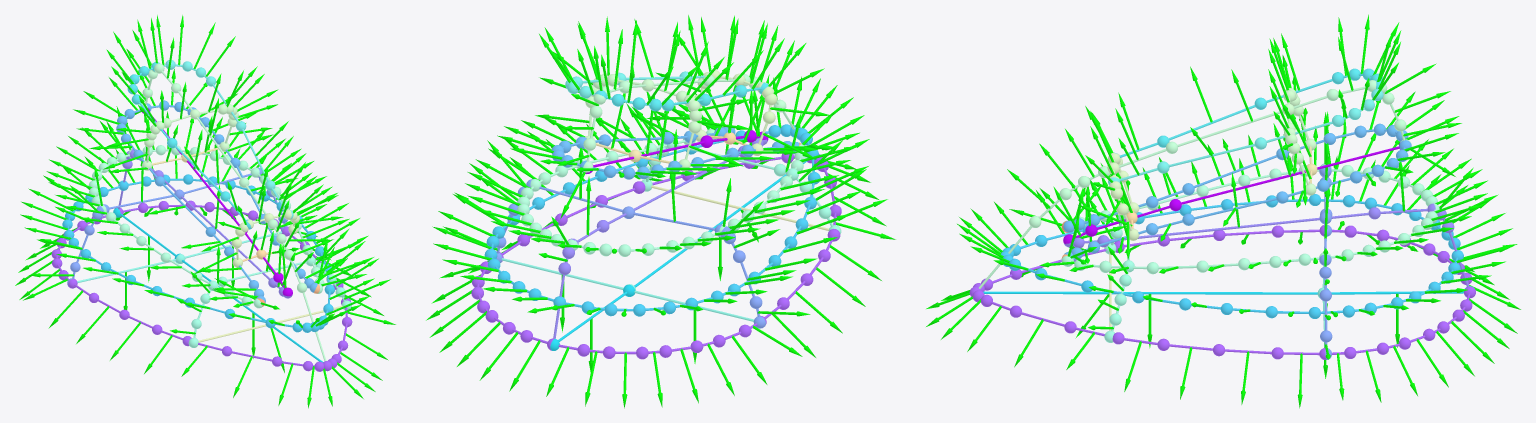
File: t2f_iron.gltf
3 renders of one model, left to right at view 1: azimuth 30°, elevation 25°; view 2: azimuth 150°, elevation 25°; view 3: azimuth 270°, elevation 25°, orthographic. The views are drawn at different scales.
Size of the model in its own units: 0.6616 by 0.5649 by 0.9658.
